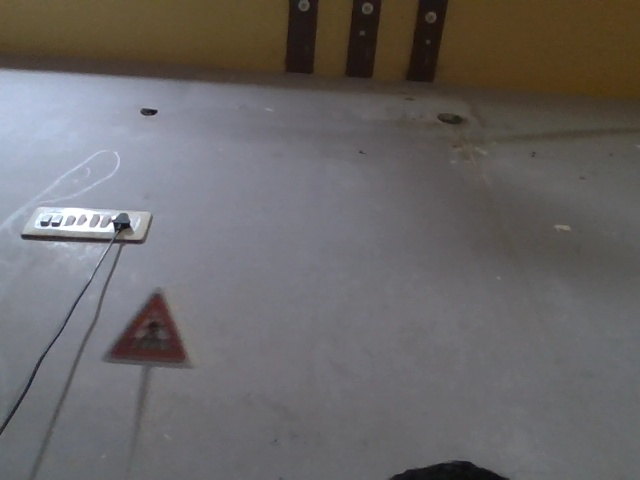crossing: (107, 278, 206, 376)
